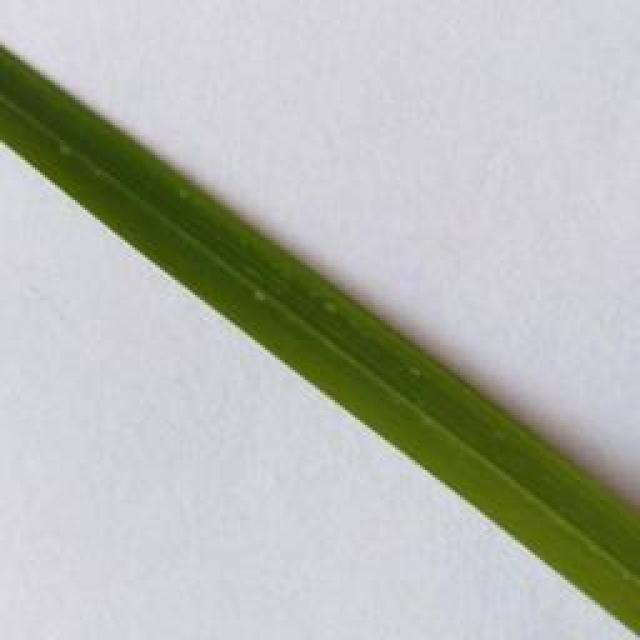Bacterial_Blight: (52, 137, 84, 168), (248, 282, 276, 313), (318, 295, 348, 323), (406, 362, 431, 386), (175, 182, 196, 208)
